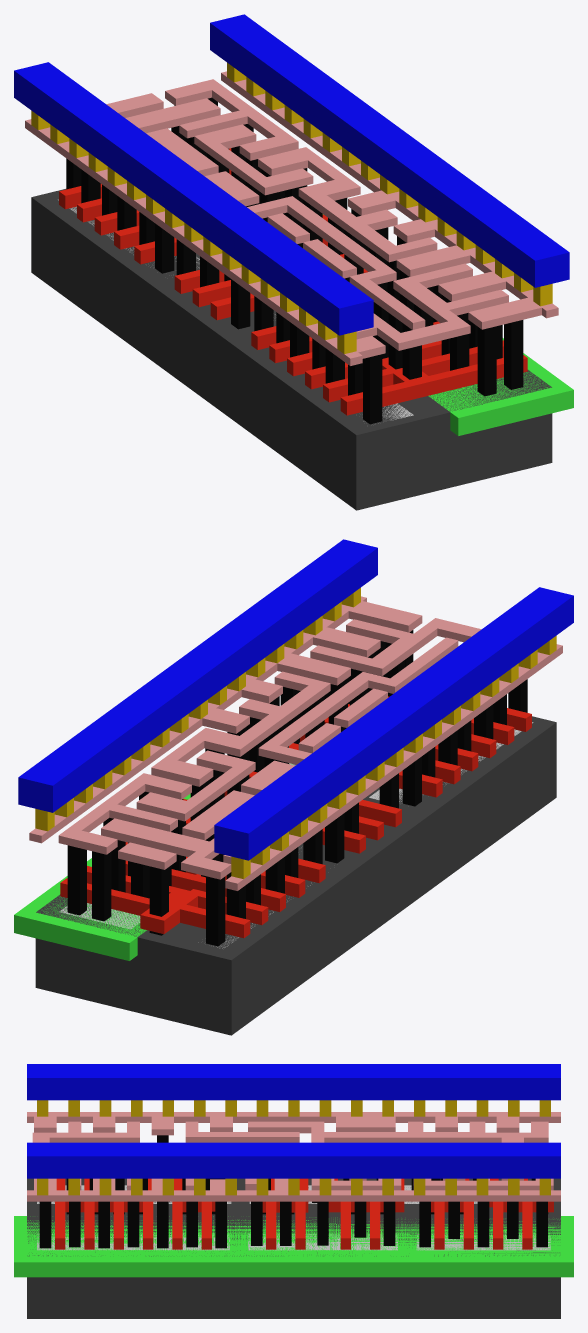
The model's file is sky130_fd_sc_hd__a2111o_4.obj.
3 renders of one model, top to bottom at view 1: azimuth 30°, elevation 25°; view 2: azimuth 150°, elevation 25°; view 3: azimuth 270°, elevation 25°, orthographic. The views are drawn at different scales.
Visible parts, largest first — view 1: subs, metal1, li, licon, poly, mcon, nwell; view 2: subs, metal1, li, licon, poly, mcon, nwell, tap; view 3: metal1, subs, nwell, li, licon, poly, mcon, tap.
Boxes of the visible parts, x1=… form: subs: x1=31, y1=189, x2=552, y2=510; metal1: x1=14, y1=14, x2=569, y2=335; li: x1=25, y1=71, x2=558, y2=365; licon: x1=66, y1=97, x2=523, y2=424; poly: x1=59, y1=148, x2=527, y2=415; mcon: x1=31, y1=62, x2=552, y2=353; nwell: x1=322, y1=214, x2=573, y2=435; subs: x1=35, y1=716, x2=556, y2=1035; metal1: x1=18, y1=539, x2=573, y2=860; li: x1=29, y1=596, x2=562, y2=890; licon: x1=67, y1=630, x2=527, y2=946; poly: x1=60, y1=696, x2=531, y2=938; mcon: x1=35, y1=587, x2=556, y2=878; nwell: x1=14, y1=764, x2=292, y2=960; tap: x1=59, y1=763, x2=295, y2=929; metal1: x1=27, y1=1064, x2=560, y2=1178; subs: x1=27, y1=1178, x2=560, y2=1318; nwell: x1=14, y1=1216, x2=573, y2=1277; li: x1=27, y1=1112, x2=560, y2=1201; licon: x1=39, y1=1135, x2=548, y2=1248; poly: x1=55, y1=1178, x2=553, y2=1249; mcon: x1=37, y1=1100, x2=550, y2=1195; tap: x1=37, y1=1231, x2=550, y2=1250.
Bounding box in the file's own units: 3.2 × 2.74 × 8.2.
